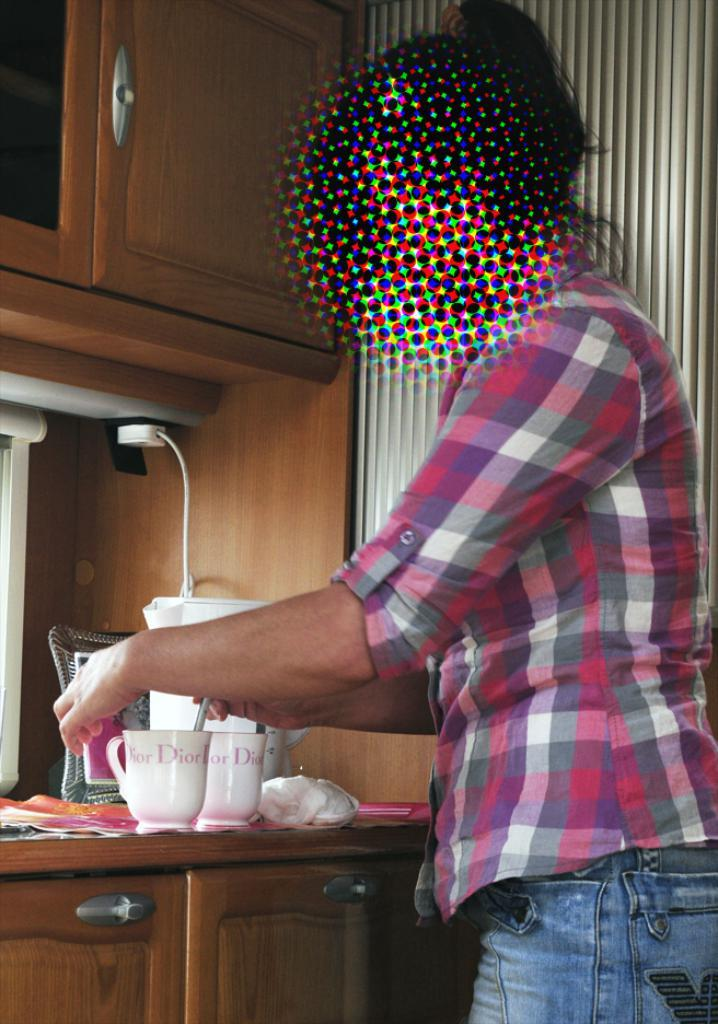cabinet_door: (113, 26, 316, 296), (5, 879, 178, 1024), (185, 884, 358, 1012)
handle: (77, 883, 151, 930), (324, 874, 382, 922), (118, 71, 138, 125)
